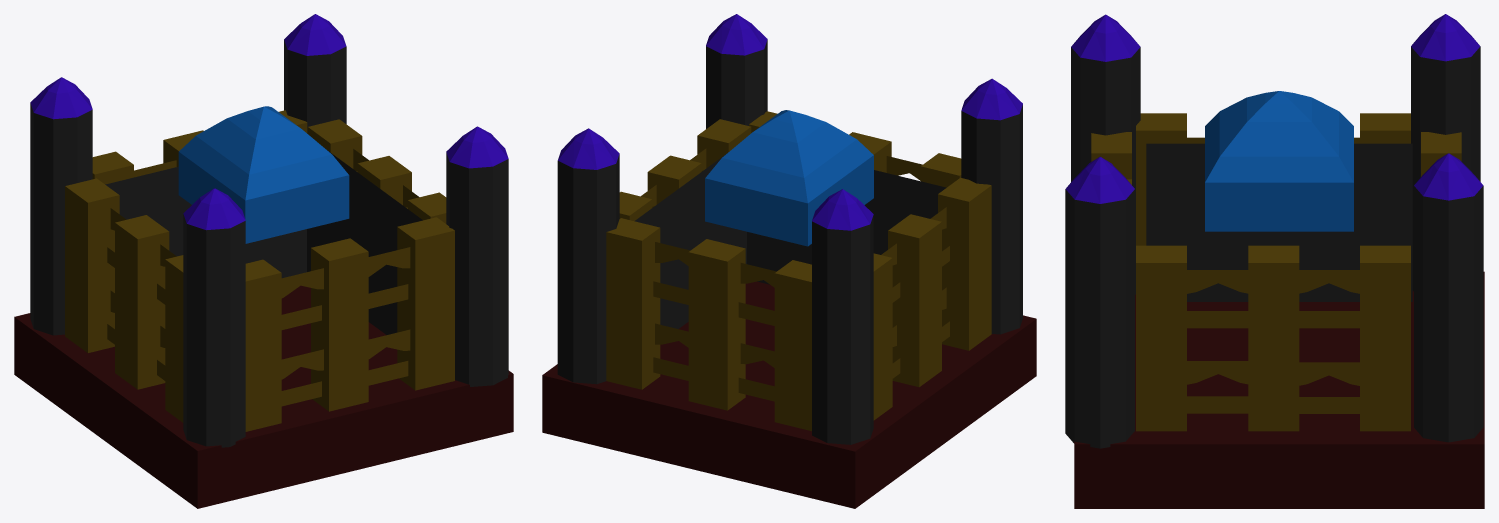
File: royalPalace1.obj
The picture shows the model from 3 angles, left to right: view 1: azimuth 30°, elevation 25°; view 2: azimuth 150°, elevation 25°; view 3: azimuth 270°, elevation 25°; orthographic projection. The views are drawn at different scales.
Parts seen in each view (by area): view 1: Cube.004, Cube.003, Cube.006, Cube.002, Cube.005, Cube, Cube.009, Cube.008, Cube.015_Cube.016, Cube.014_Cube.015, Cube.007, Cube.001 (+14 smaller); view 2: Cube.004, Cube.006, Cube, Cube.001, Cube.003, Cube.005, Cube.012_Cube.013, Cube.011_Cube.012, Cube.013_Cube.014, Cube.015_Cube.016, Cube.010_Cube.011, Cube.002 (+15 smaller); view 3: Cube.004, Cube.006, Cube.002, Cube.005, Cube.001, Cube.018_Cube.019, Cube.016_Cube.017, Cube.017_Cube.018, Cube, Cube.003, Cube.013_Cube.014, Cube.014_Cube.015 (+10 smaller).
Boxes of the visible parts, x1,y1,x2,y2 form: Cube.004: (14,285,513,508); Cube.003: (183,188,245,447); Cube.006: (178,106,349,243); Cube.002: (446,126,508,386); Cube.005: (105,150,422,334); Cube: (30,77,92,335); Cube.009: (311,238,368,411); Cube.008: (397,217,454,390); Cube.015_Cube.016: (115,215,169,389); Cube.014_Cube.015: (65,178,119,352); Cube.007: (245,259,281,431); Cube.001: (284,14,346,133); Cube.004: (542,281,1036,508); Cube.006: (705,110,873,246); Cube: (812,189,873,444); Cube.001: (557,128,619,384); Cube.003: (961,78,1022,334); Cube.005: (634,153,946,328); Cube.012_Cube.013: (688,239,745,410); Cube.011_Cube.012: (606,218,660,389); Cube.013_Cube.014: (938,177,991,350); Cube.015_Cube.016: (888,214,941,387); Cube.010_Cube.011: (774,260,811,431); Cube.002: (706,14,767,128); Cube.004: (1074,271,1484,508); Cube.006: (1205,91,1353,231); Cube.002: (1065,156,1134,448); Cube.005: (1146,143,1412,301); Cube.001: (1414,153,1483,442); Cube.018_Cube.019: (1248,245,1299,431); Cube.016_Cube.017: (1136,245,1186,431); Cube.017_Cube.018: (1360,245,1410,431); Cube: (1411,14,1480,291); Cube.003: (1071,14,1140,294); Cube.013_Cube.014: (1136,113,1186,245); Cube.014_Cube.015: (1360,113,1410,143).
Bounding box in the file's own units: 16.12 × 14.61 × 16.39.
